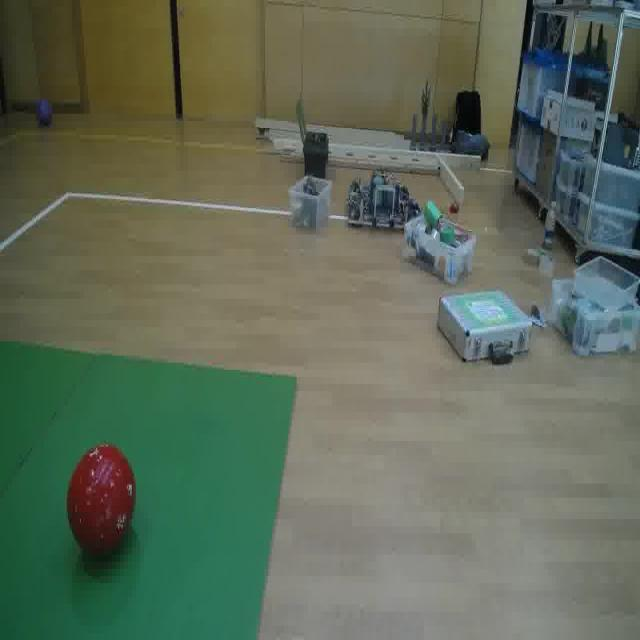purple_ball: (36, 96, 53, 132)
red_ball: (68, 440, 138, 572)
